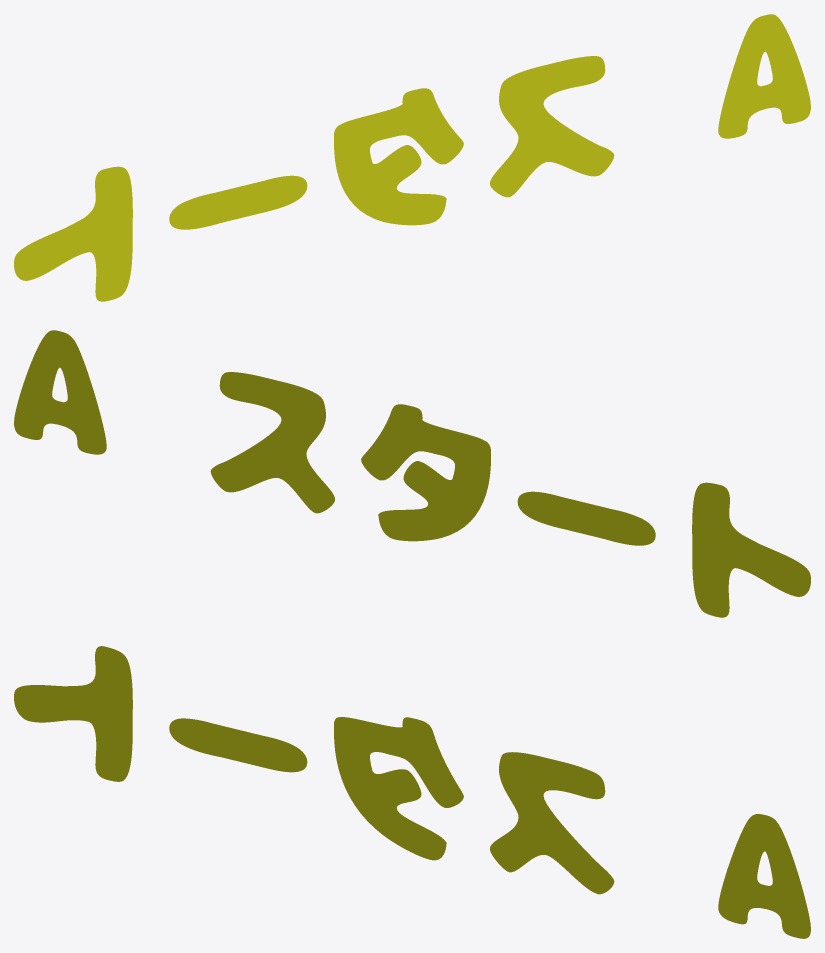
File: UI_Title_Stsrt.obj
The picture shows the model from 3 angles, top to bottom: view 1: azimuth 30°, elevation 25°; view 2: azimuth 150°, elevation 25°; view 3: azimuth 330°, elevation 25°; orthographic projection.
Visible parts, largest first — view 1: テキスト; view 2: テキスト; view 3: テキスト.
Boxes of the visible parts, <box> form: テキスト: <box>14,14,810,301</box>; テキスト: <box>14,330,810,617</box>; テキスト: <box>14,646,810,938</box>.
Bounding box in the file's own units: 3.9 × 0.6421 × 0.
Materials: 1 (1 with a texture image).
